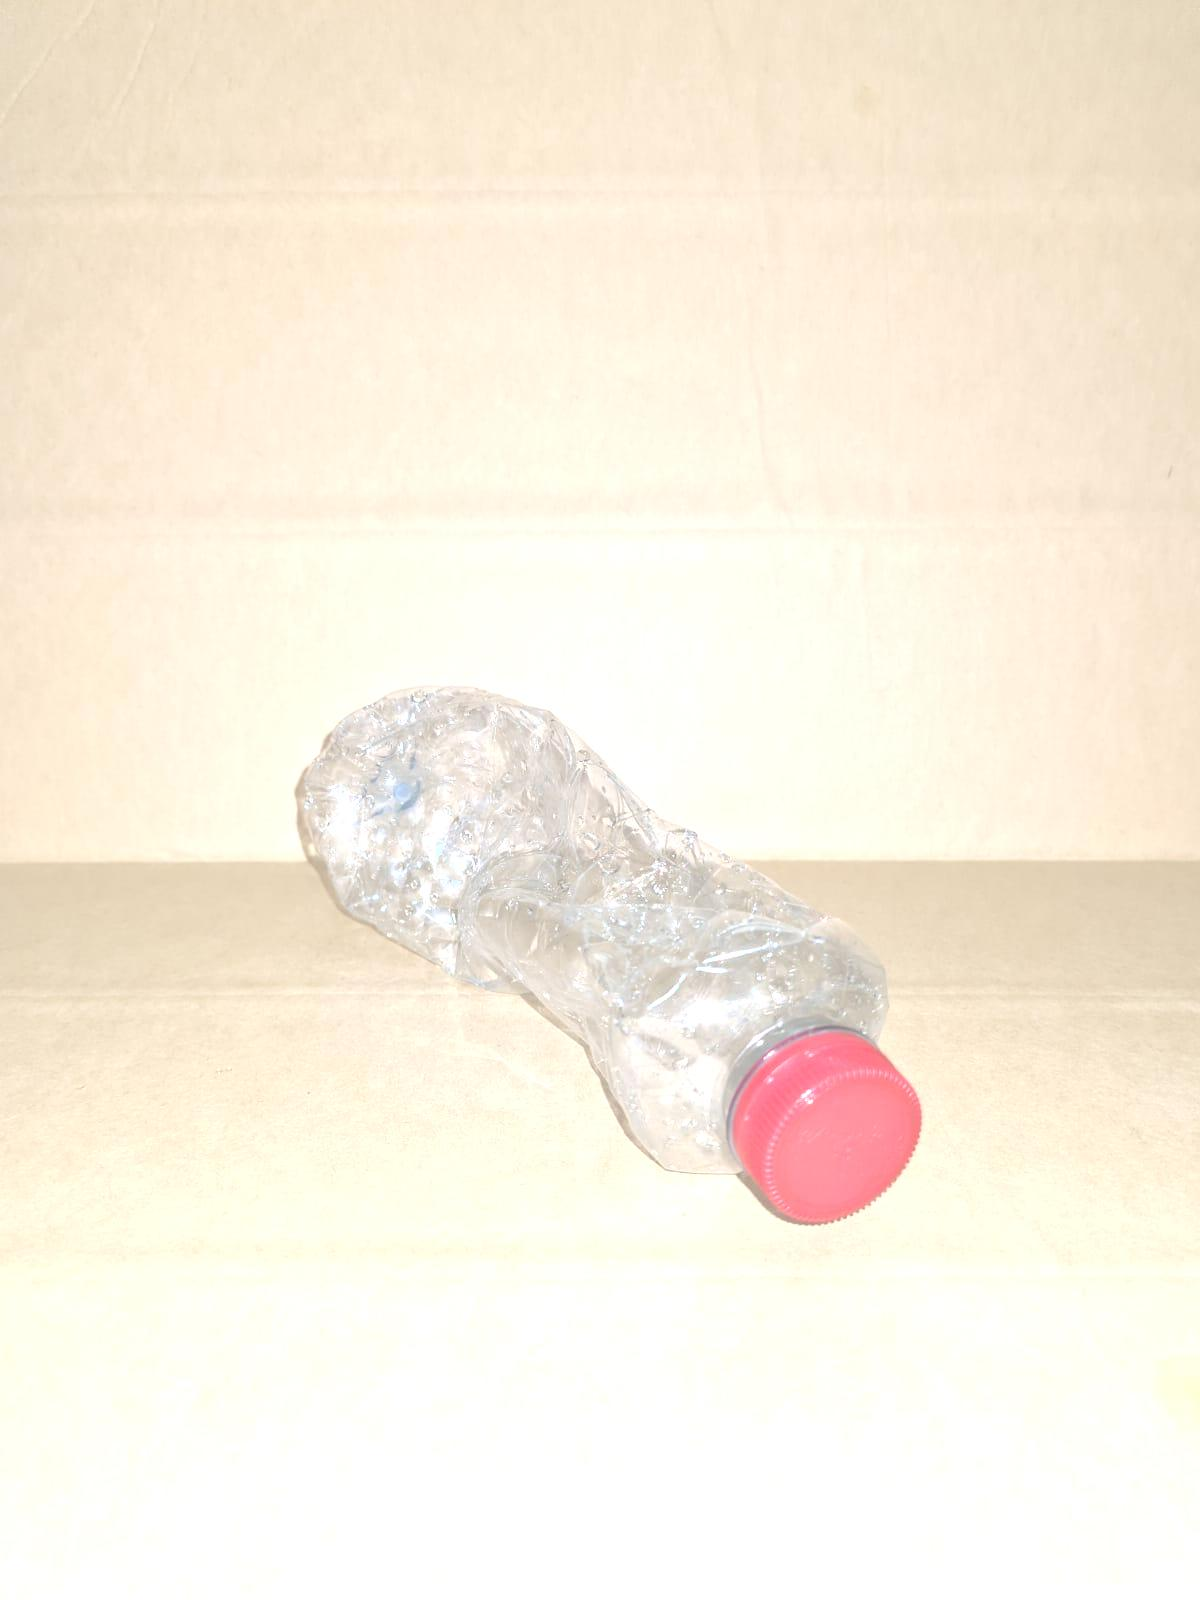bottle: (229, 661, 947, 1238)
